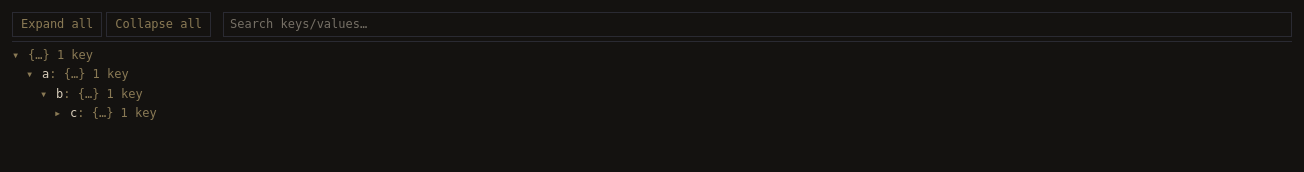
Scenario: JsonTreeView toolbar — search › clearing the query collapses back to depth defaults
Type "needle" into the field at (758, 25), box x1=223 y1=12 x2=1292 y2=37
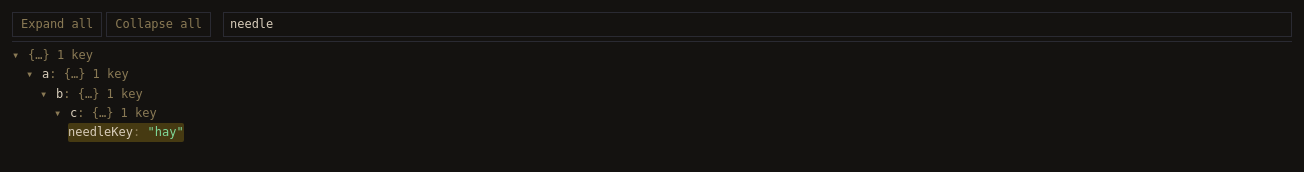
Result: the text "needleKey" is shown at x1=68 y1=125 x2=133 y2=139
Clear the field at (758, 25), box x1=223 y1=12 x2=1292 y2=37
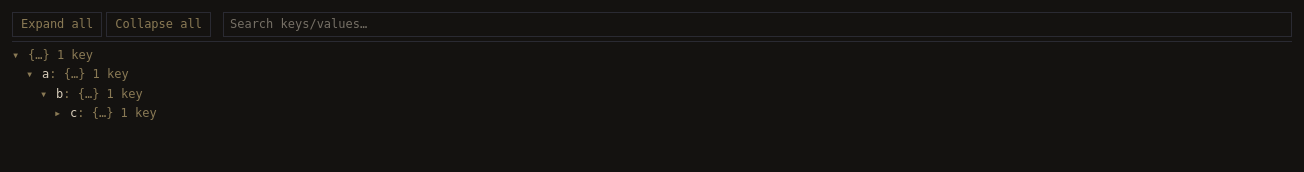
Result: the text "needleKey" is gone
